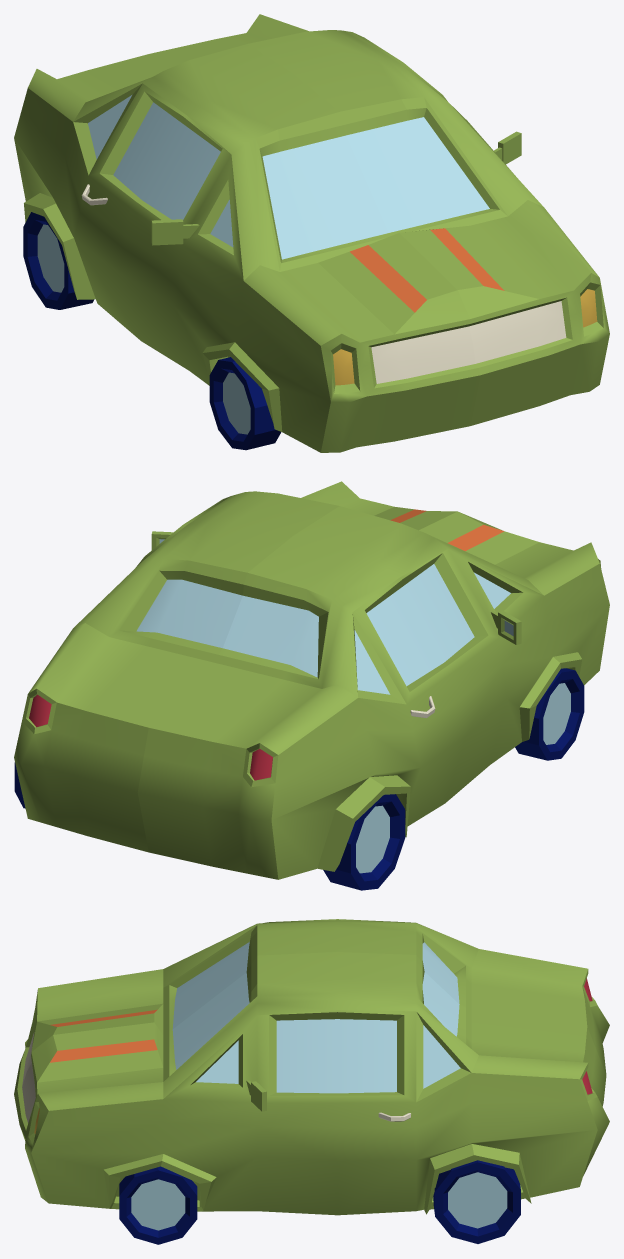
File: GreenCar.fbx
3 views of the same model, one above another, from view 1: azimuth 30°, elevation 25°; view 2: azimuth 150°, elevation 25°; view 3: azimuth 270°, elevation 25° (orthographic). The views are drawn at different scales.
Parts seen in each view (by area): view 1: Body, pCylinder4, pCylinder3, Mirror1, Mirror; view 2: Body, pCylinder3, pCylinder4, Mirror1; view 3: Body, pCylinder2, pCylinder1.
Part boxes in pixels (left/top/right/bottom): Body: left=14, top=14, right=609, bottom=452; pCylinder4: left=209, top=357, right=281, bottom=450; pCylinder3: left=23, top=212, right=94, bottom=309; Mirror1: left=151, top=219, right=199, bottom=245; Mirror: left=494, top=131, right=521, bottom=164; Body: left=14, top=481, right=609, bottom=879; pCylinder3: left=323, top=794, right=405, bottom=890; pCylinder4: left=515, top=668, right=584, bottom=760; Mirror1: left=491, top=610, right=521, bottom=644; Body: left=14, top=919, right=609, bottom=1215; pCylinder2: left=433, top=1160, right=520, bottom=1243; pCylinder1: left=119, top=1166, right=197, bottom=1244.
Bounding box in the file's own units: 3.68 × 2.46 × 5.95.
